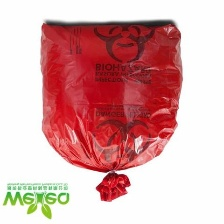plastic_bag: (26, 13, 198, 207)
